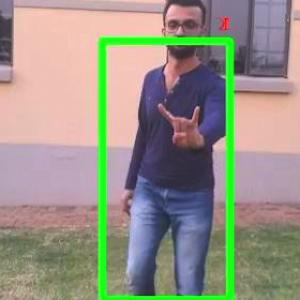takeoff-hand: (151, 90, 217, 162)
